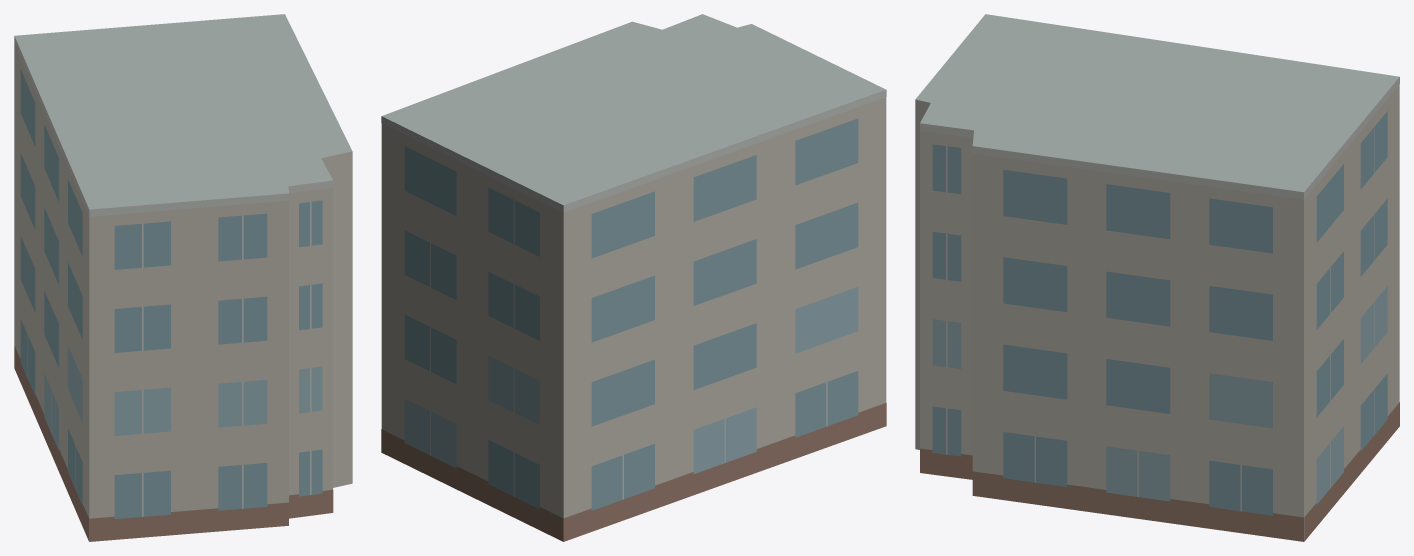
Rendered from survey-upis-32511304.glb.
3 views of the same model, side by side, from view 1: azimuth 30°, elevation 25°; view 2: azimuth 150°, elevation 25°; view 3: azimuth 270°, elevation 25° (orthographic). The views are drawn at different scales.
Visible parts, largest first — view 1: survey-upis-32511304.tmp; view 2: survey-upis-32511304.tmp; view 3: survey-upis-32511304.tmp.
Part boxes in pixels (box(x1,y1,x2,y2)): survey-upis-32511304.tmp: box(14, 14, 352, 541); survey-upis-32511304.tmp: box(381, 14, 886, 541); survey-upis-32511304.tmp: box(915, 14, 1399, 541).
Bounding box in the file's own units: 12.36 × 11.3 × 14.2.
